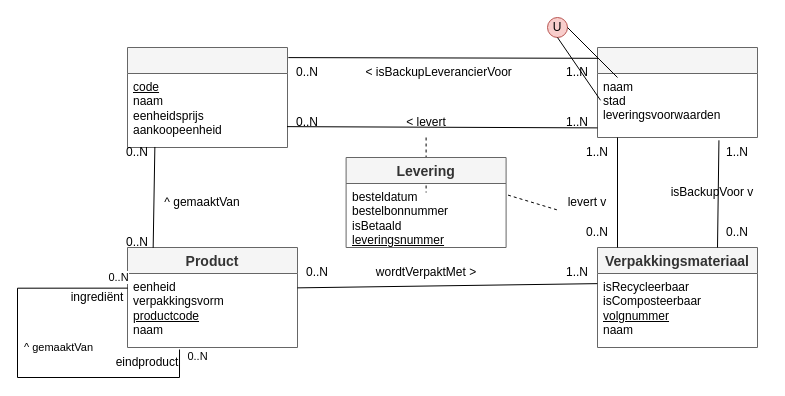
This 785x396 diagram has some shape labels left out. The box of each missing label's shape, as (x1, y1, x2, y2) in pixels:
Grondstof: (126, 46, 288, 148)
Leverancier: (596, 46, 758, 138)
